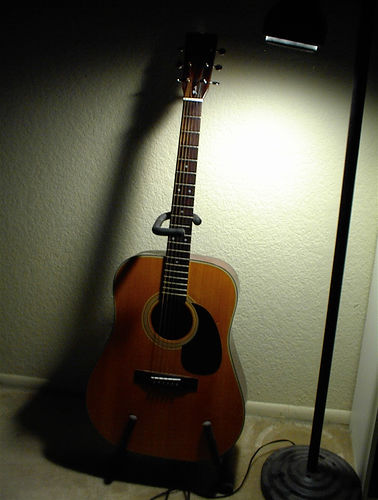guitar: (83, 36, 247, 466)
